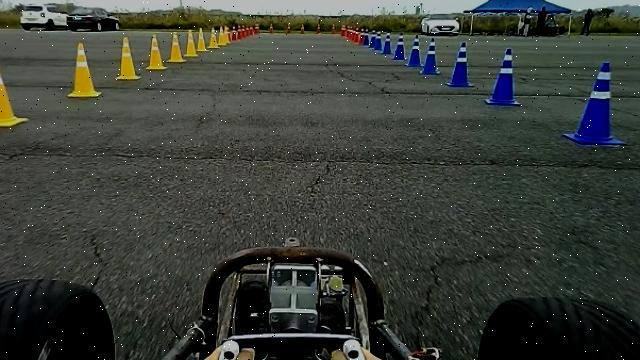blue cone: (562, 61, 628, 146), (485, 47, 522, 105), (446, 40, 476, 88), (420, 37, 441, 75), (406, 34, 424, 67), (392, 32, 406, 60), (382, 32, 393, 54), (374, 31, 384, 51)
yellow cone: (0, 50, 30, 127), (68, 42, 102, 98), (116, 36, 141, 80), (146, 33, 168, 70), (166, 31, 187, 62), (185, 28, 200, 56)
